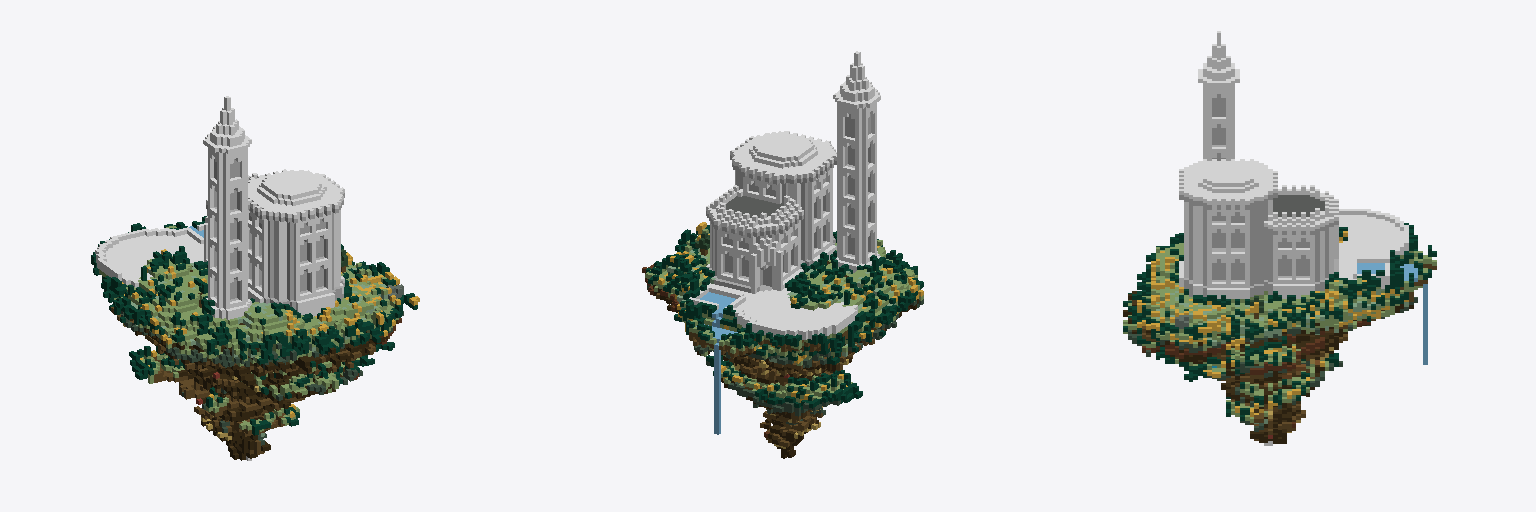
3 views of the same model, side by side, from view 1: azimuth 30°, elevation 25°; view 2: azimuth 150°, elevation 25°; view 3: azimuth 270°, elevation 25° (orthographic).
Parts seen in each view (by area): view 1: floating-castle; view 2: floating-castle; view 3: floating-castle.
Boxes of the visible parts, x1,y1,x2,y2 form: floating-castle: [91, 96, 419, 460]; floating-castle: [642, 51, 923, 458]; floating-castle: [1123, 31, 1436, 445].
Bounding box in the file's own units: 64 × 92 × 67.
1 materials, 1 textured.